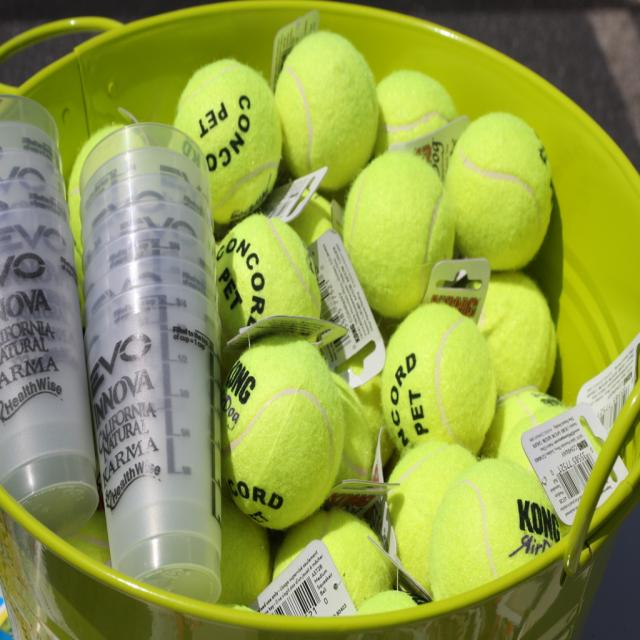Tennis ball: (65, 31, 554, 610)
